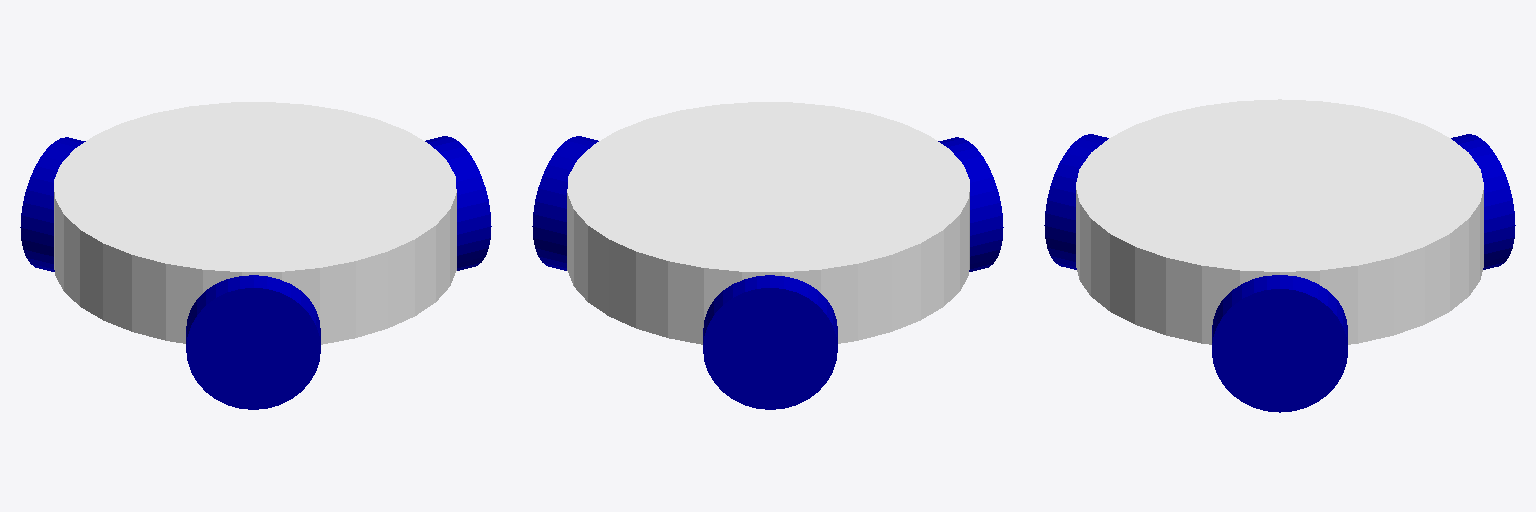
The robot description file, URDF, robot "diode_robot":
<?xml version="1.0" ?>
<robot name="diode_robot">

    <link name="base_link">
        <visual>
            <origin xyz=" 0 0 0.09" rpy="0 0 0" />
            <geometry>
                <cylinder length="0.08" radius="0.19"/>
            </geometry>
            <material name="white">
                <color rgba="1 1 1 1"/>
            </material>
        </visual>
    </link>   

    <link name="front_wheel">
        <visual>
            <origin rpy="0 1.57 0" xyz="0 0 0.0"/>
            <geometry>
                <cylinder length="0.04" radius="0.0635"/>
            </geometry>
            <material name="black">
                <color rgba="0 0 0.8 1"/>
            </material>
        </visual>
    </link>

    <link name="left_wheel">
        <visual>
            <origin rpy="0 1.57 -1.05" xyz="0 0 0.0"/>
            <geometry>
                <cylinder length="0.04" radius="0.0635"/>
            </geometry>
            <material name="blue">
                <color rgba="0 0 0.8 1"/>
            </material>
        </visual>
    </link>

    <link name="right_wheel">
        <visual>
            <origin rpy="0 1.57 1.05" xyz="0 0 0.0"/>
            <geometry>
                <cylinder length="0.04" radius="0.0635"/>
            </geometry>
            <material name="blue">
                <color rgba="0 0 0.8 1"/>
            </material>
        </visual>
    </link>

    <joint name="base_to_front_wheel" type="fixed">
        <parent link="base_link"/>
        <child link="front_wheel"/>
        <origin rpy="0 0 0" xyz="0.2 0 0.0635"/>
    </joint>

    <joint name="base_to_left_wheel" type="fixed">
        <parent link="base_link"/>
        <child link="left_wheel"/>
        <origin rpy="0 0 0" xyz="-0.1 0.17 0.0635"/>
    </joint>

    <joint name="base_to_right_wheel" type="fixed">
        <parent link="base_link"/>
        <child link="right_wheel"/>
        <origin rpy="0 0 0" xyz="-0.1 -0.17 0.0635"/>
    </joint>

    </robot>

--- Facts derived from the render (not from the file) ---
The picture shows the robot from 3 angles, left to right: view 1: azimuth 30°, elevation 25°; view 2: azimuth 150°, elevation 25°; view 3: azimuth 270°, elevation 25°; orthographic projection.
Robot: diode_robot — 4 links, 3 joints (3 fixed); root link base_link; default pose: all joints at 0.
Links seen in each view (by area): view 1: base_link, right_wheel, front_wheel, left_wheel; view 2: base_link, left_wheel, front_wheel, right_wheel; view 3: base_link, front_wheel, left_wheel, right_wheel.
Boxes of the visible links, left/top/right/bottom form: base_link: left=54, top=102, right=456, bottom=344; right_wheel: left=186, top=275, right=320, bottom=409; front_wheel: left=425, top=136, right=491, bottom=270; left_wheel: left=20, top=137, right=85, bottom=271; base_link: left=567, top=102, right=969, bottom=344; left_wheel: left=703, top=275, right=837, bottom=409; front_wheel: left=532, top=136, right=598, bottom=270; right_wheel: left=938, top=137, right=1003, bottom=271; base_link: left=1076, top=99, right=1483, bottom=344; front_wheel: left=1212, top=275, right=1347, bottom=412; left_wheel: left=1451, top=134, right=1515, bottom=269; right_wheel: left=1044, top=134, right=1108, bottom=269.
Size in the robot's own frame: 0.4101 by 0.4379 by 0.13 metres.
Geometry: primitives only (box / cylinder / sphere), no mesh files.